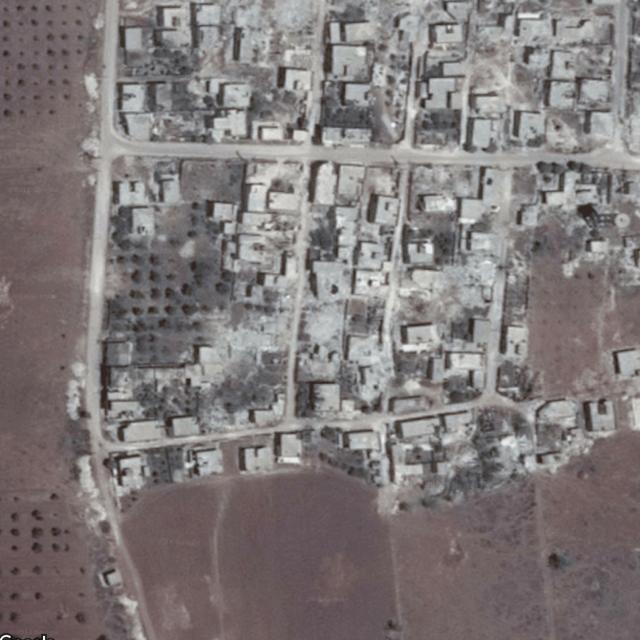damaged_building: (398, 228, 530, 329), (300, 272, 393, 400), (203, 280, 298, 382), (469, 12, 549, 92), (232, 0, 318, 64)
